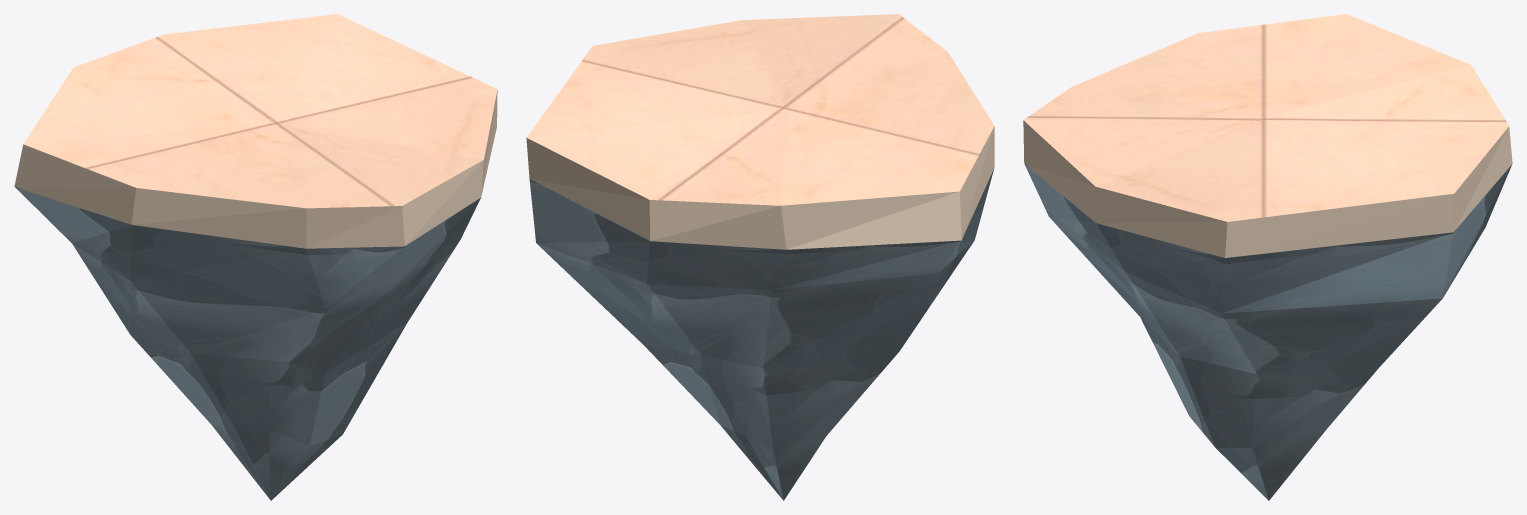
The model's file is sky_debris_b.glb.
3 renders of one model, left to right at view 1: azimuth 30°, elevation 25°; view 2: azimuth 150°, elevation 25°; view 3: azimuth 270°, elevation 25°, orthographic. The views are drawn at different scales.
Visible parts, largest first — view 1: debris; view 2: debris; view 3: debris.
Part boxes in pixels (left/top/right/bottom): debris: left=14, top=14, right=497, bottom=500; debris: left=526, top=14, right=994, bottom=500; debris: left=1023, top=14, right=1512, bottom=500.
Bounding box in the file's own units: 1.87 × 1.63 × 1.86.
Materials: 3 (2 with a texture image).
